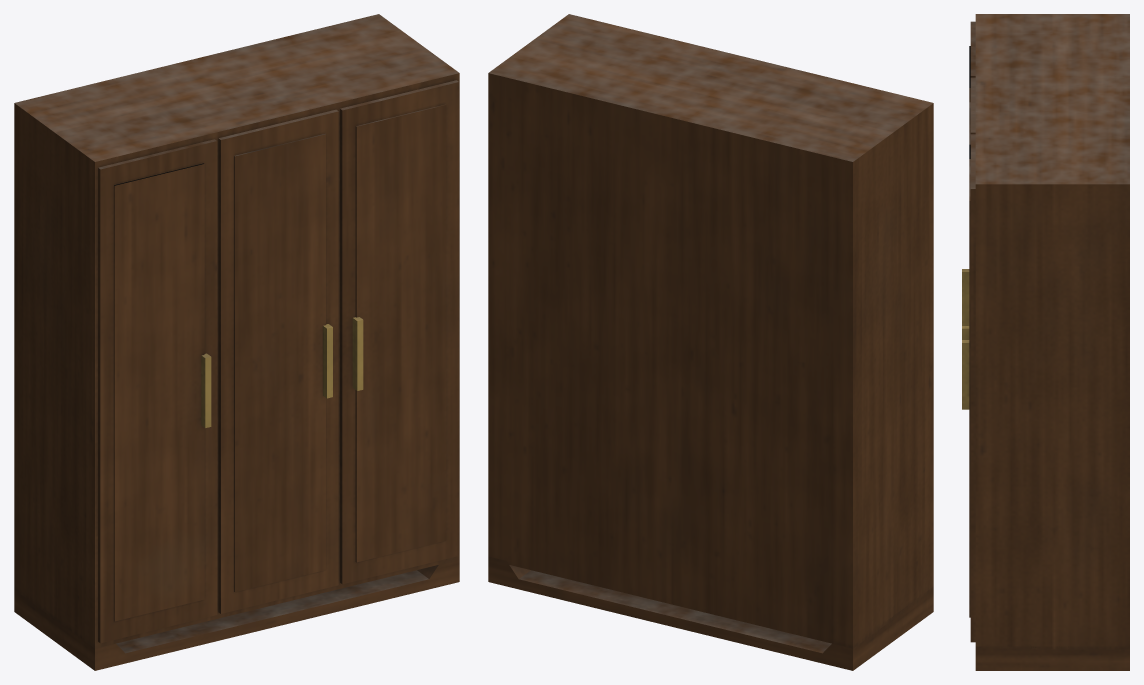
The model's file is H_Wardrobe.fbx.
3 views of the same model, side by side, from view 1: azimuth 30°, elevation 25°; view 2: azimuth 150°, elevation 25°; view 3: azimuth 270°, elevation 25° (orthographic). The views are drawn at different scales.
Parts seen in each view (by area): view 1: H_Wardrobe; view 2: H_Wardrobe; view 3: H_Wardrobe.
Boxes of the visible parts, x1,y1,x2,y2 form: H_Wardrobe: (14, 14, 459, 670); H_Wardrobe: (488, 14, 933, 670); H_Wardrobe: (962, 14, 1129, 670).
Size of the model in its own units: 600 by 800 by 250.
Materials: 1 (1 with a texture image).
